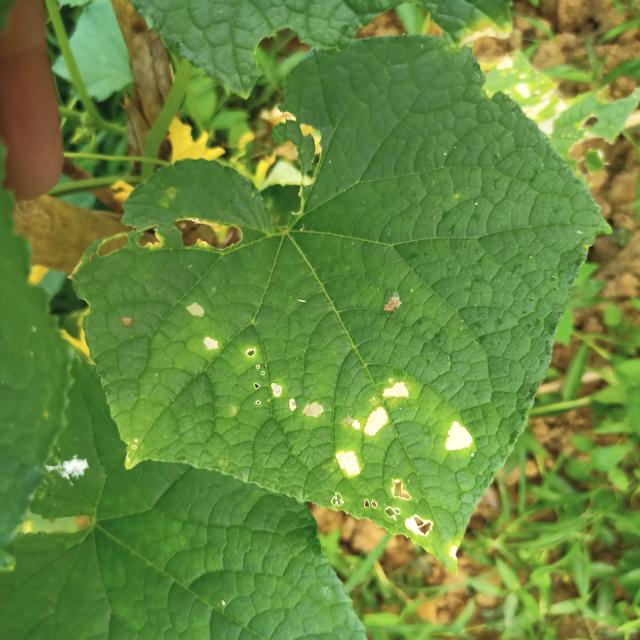disease_cucumber: (167, 286, 474, 560)
